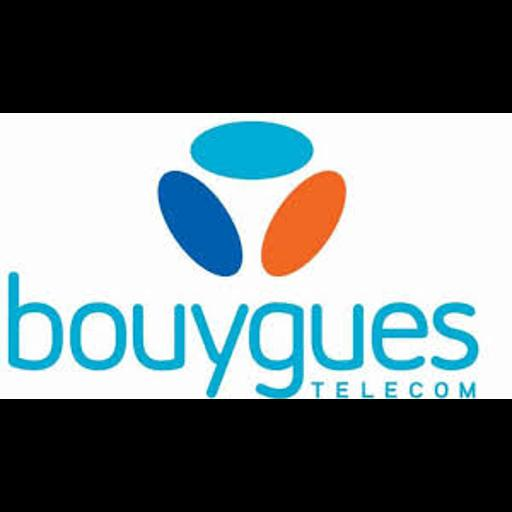Bouygues Telecom: (0, 113, 512, 399)
